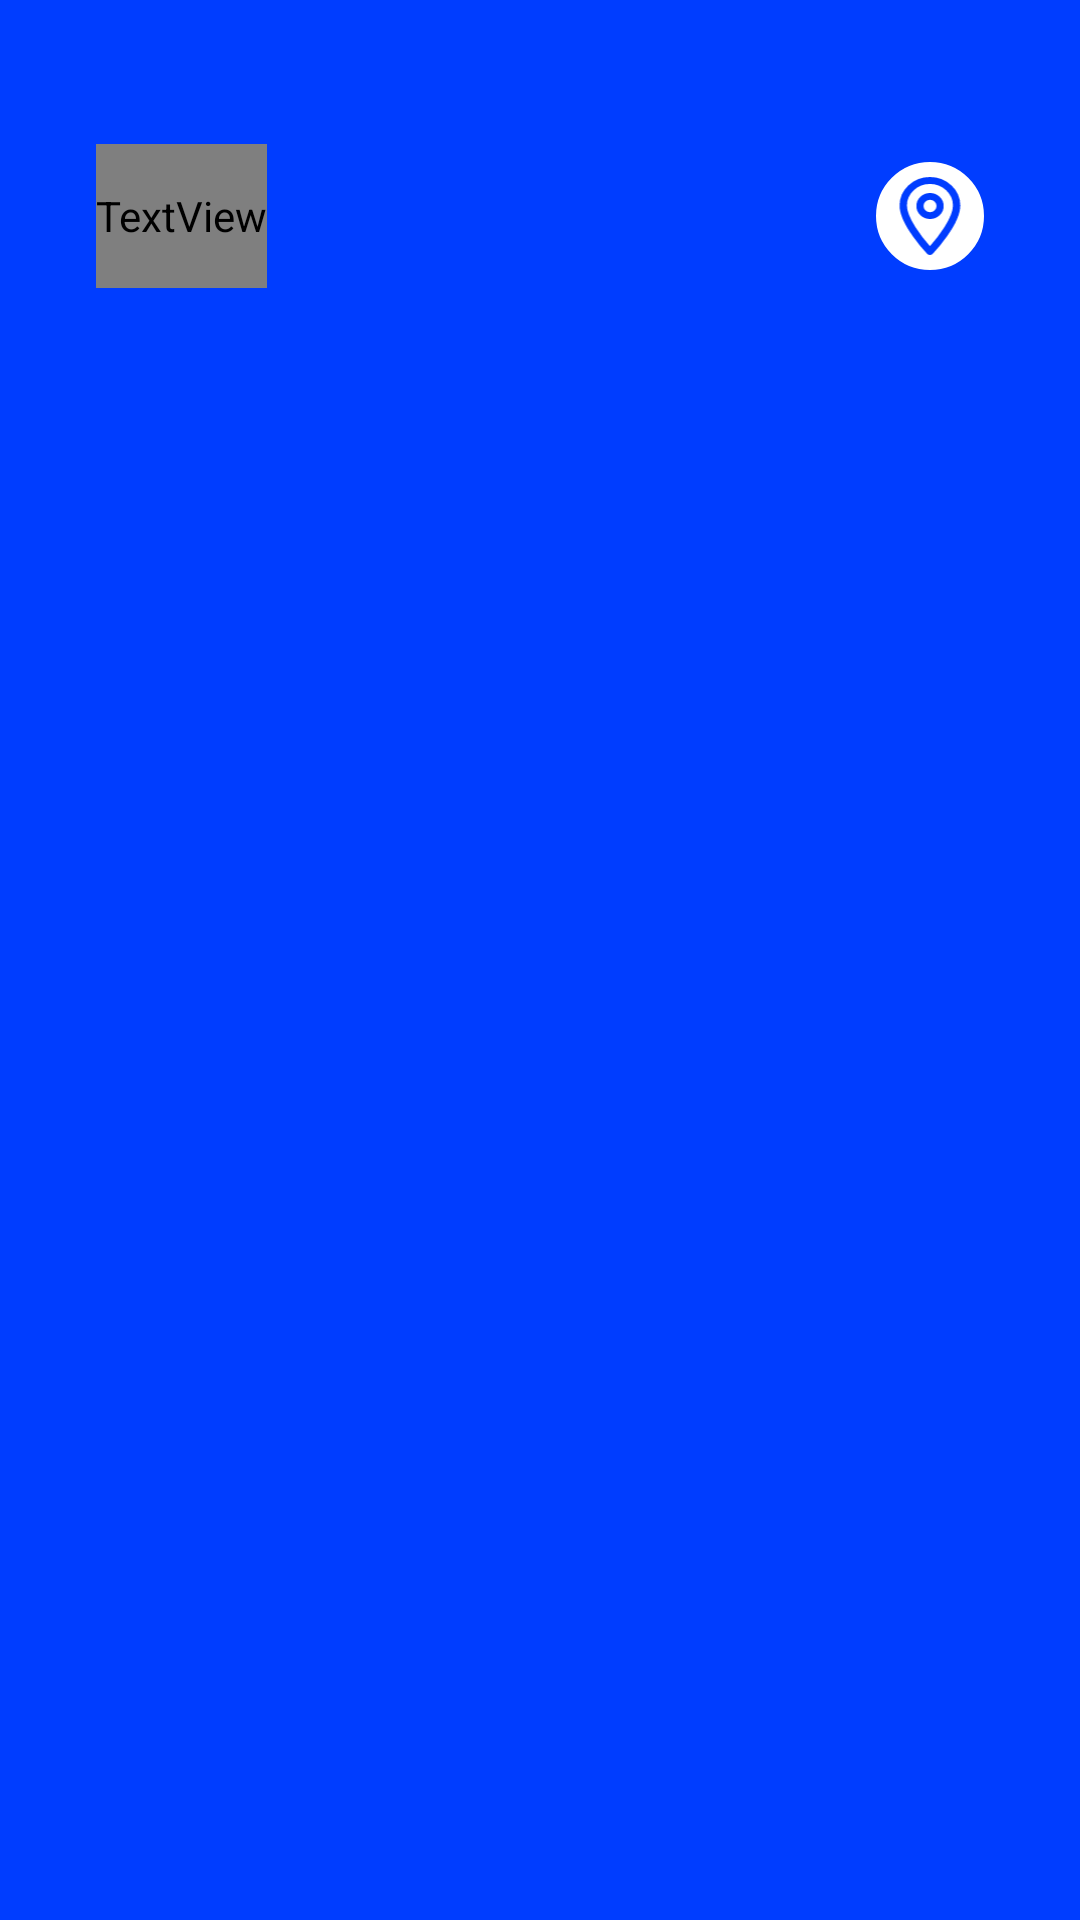

Named icons in this screenshot (1080x1920) and their centers, [x,y]:
map: [930,216]
